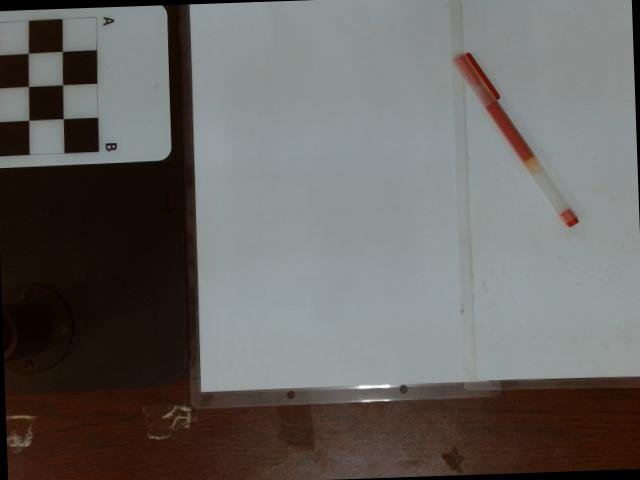PEN: (452, 49, 579, 233)
